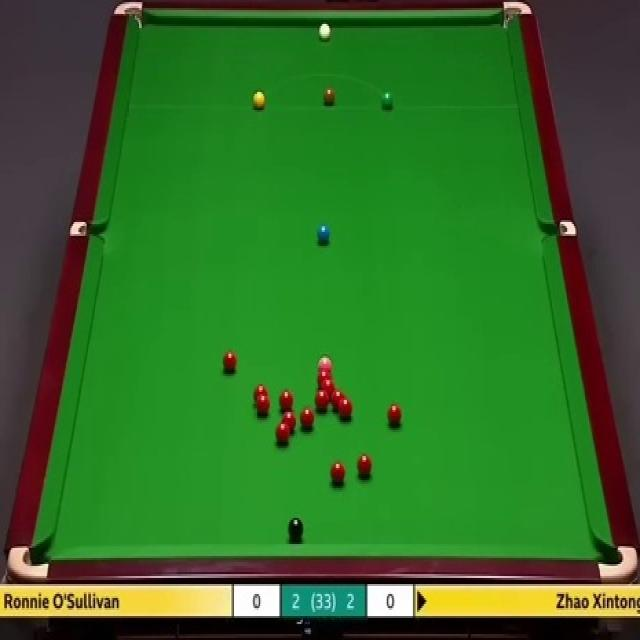black-ball: (286, 514, 304, 538)
blue-ball: (316, 225, 331, 242)
brown-ball: (324, 88, 335, 106)
green-ball: (380, 88, 395, 110)
pink-ball: (318, 356, 334, 370)
red-ball: (386, 399, 402, 426), (221, 349, 237, 374), (314, 389, 330, 412), (300, 405, 316, 428), (329, 457, 344, 481), (275, 422, 291, 444), (337, 397, 353, 418), (279, 388, 292, 411), (356, 453, 370, 474), (256, 395, 270, 416), (282, 413, 297, 432), (330, 386, 344, 406), (254, 384, 268, 404), (320, 378, 334, 396)
white-ball: (320, 20, 333, 38)
yellow-ball: (253, 90, 265, 110)
